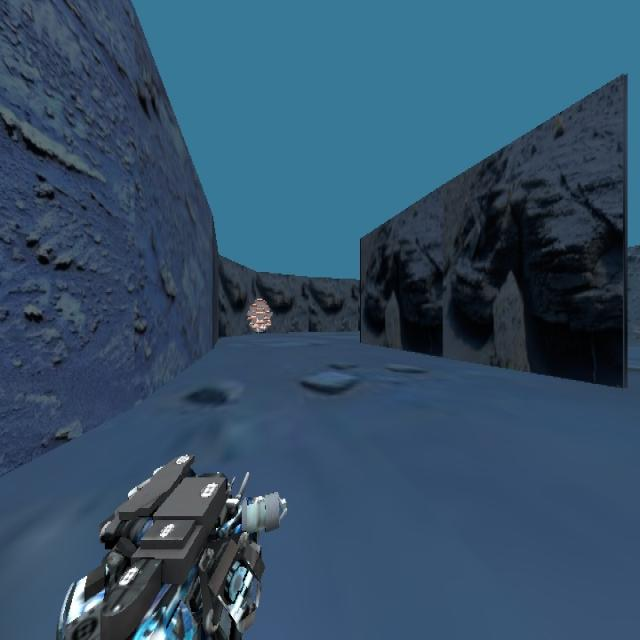Mushroom: (245, 296, 272, 333)
